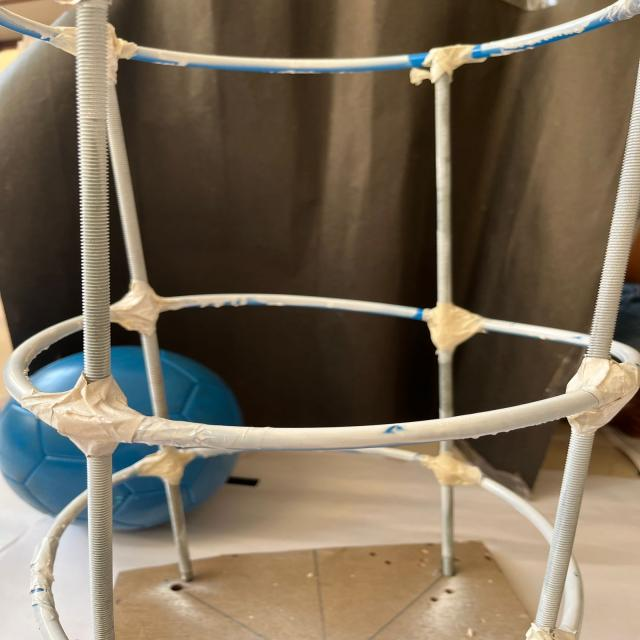blue_ball: (0, 342, 242, 523)
silo: (0, 0, 640, 640)
